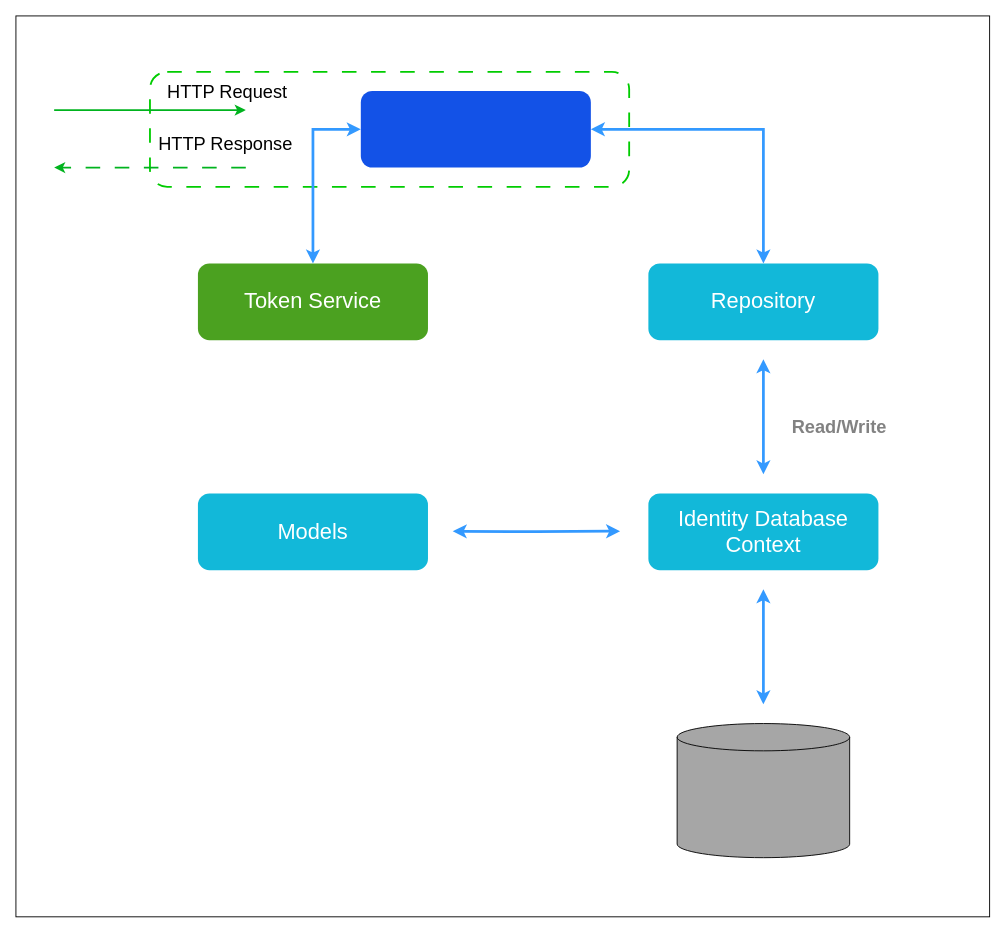
Some shapes in this 1006 by 933 pixel diagram are drawn without their labels. The centre of each missing label's shape, as x and y in pixels:
"Controller (REST) (Synchronous)" goes at pixel 475 128.
"SQL Server Database" goes at pixel 763 790.
